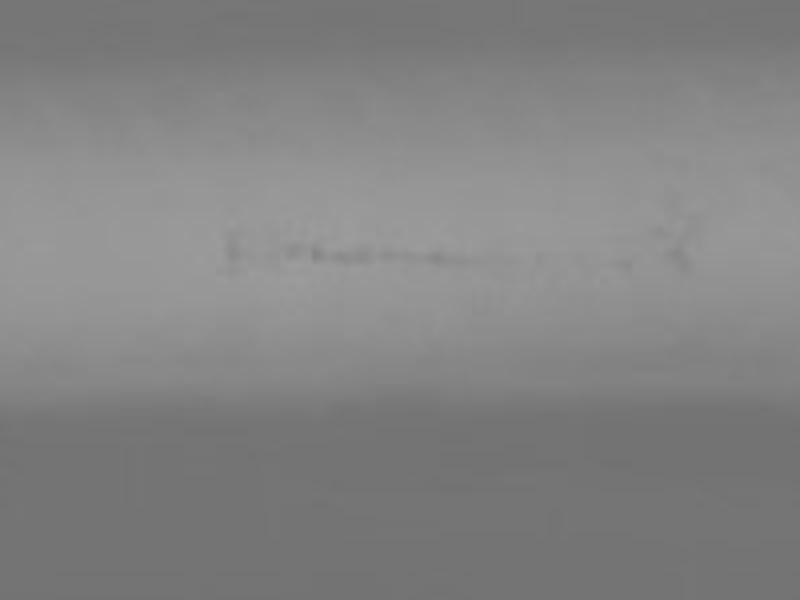defect: (665, 246, 692, 273), (278, 241, 303, 266), (350, 245, 373, 268), (222, 234, 243, 255), (221, 257, 240, 276), (614, 257, 632, 275), (306, 244, 323, 261), (426, 251, 443, 268), (327, 250, 343, 266), (651, 221, 667, 237), (533, 248, 548, 263), (395, 248, 409, 262), (378, 251, 391, 264), (446, 257, 458, 269)
